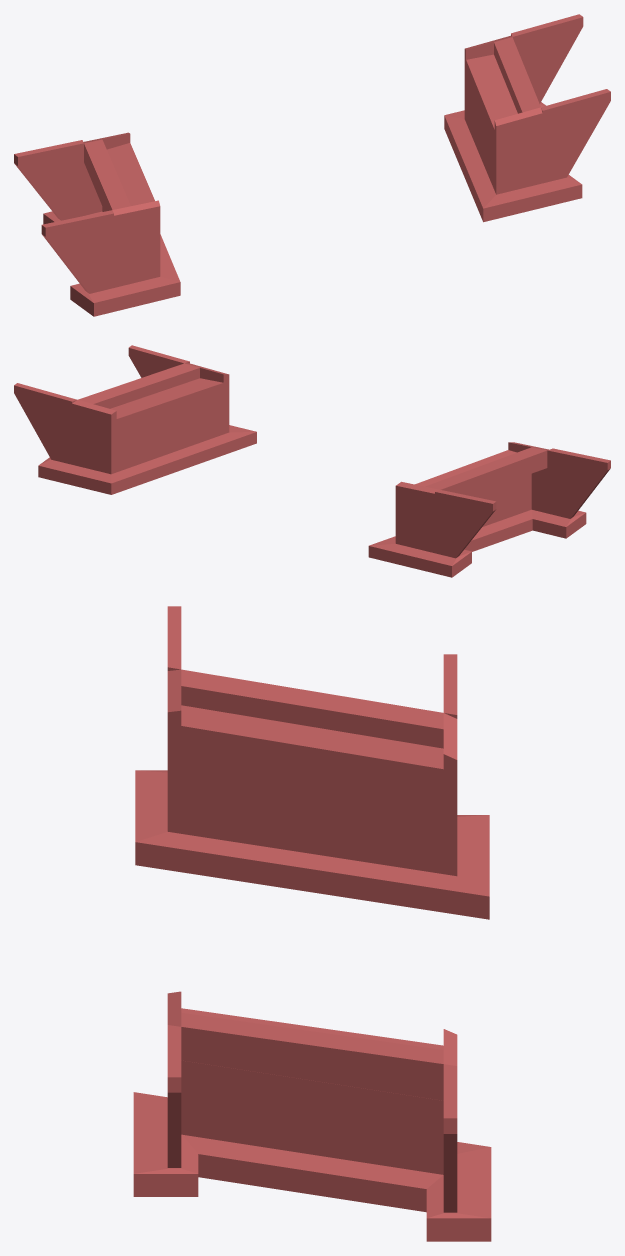
The model's file is bridge8_abutments.obj.
3 renders of one model, top to bottom at view 1: azimuth 30°, elevation 25°; view 2: azimuth 150°, elevation 25°; view 3: azimuth 270°, elevation 25°, orthographic. The views are drawn at different scales.
Parts seen in each view (by area): view 1: mesh_1, mesh_0; view 2: mesh_1, mesh_0; view 3: mesh_0, mesh_1.
Boxes of the visible parts, x1,y1,x2,y2 form: mesh_1: [444, 14, 610, 222]; mesh_0: [14, 132, 180, 316]; mesh_1: [14, 345, 256, 494]; mesh_0: [368, 442, 610, 577]; mesh_0: [135, 606, 489, 919]; mesh_1: [133, 991, 491, 1241].
Bounding box in the file's own units: 71.19 × 10.06 × 21.
